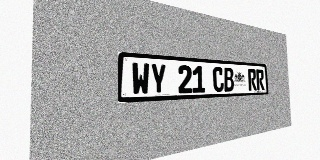1: (192, 66, 205, 93)
2: (178, 65, 192, 93)
B: (223, 67, 234, 92)
C: (212, 67, 224, 92)
R: (248, 69, 257, 91), (256, 69, 264, 90)
W: (131, 62, 150, 95)
Y: (150, 63, 167, 95)
